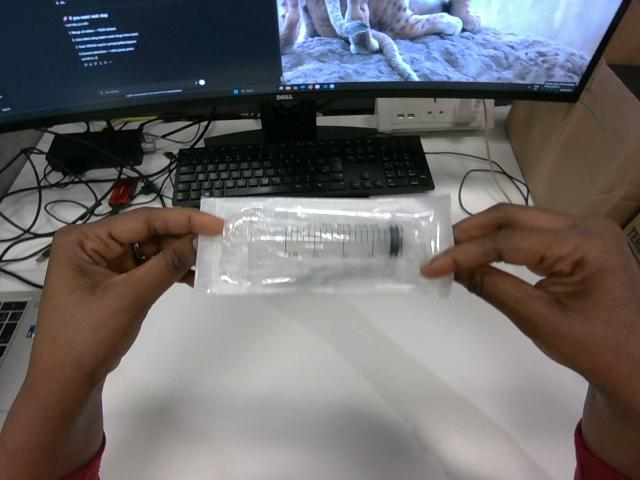syringe: (195, 194, 452, 295)
